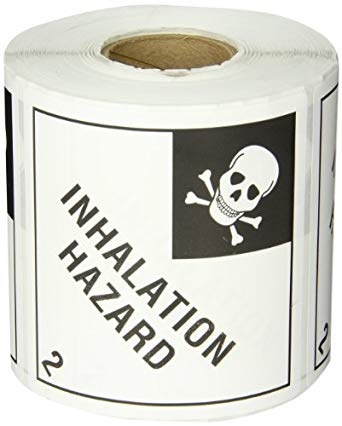InhalationHazard: (30, 107, 299, 407)
